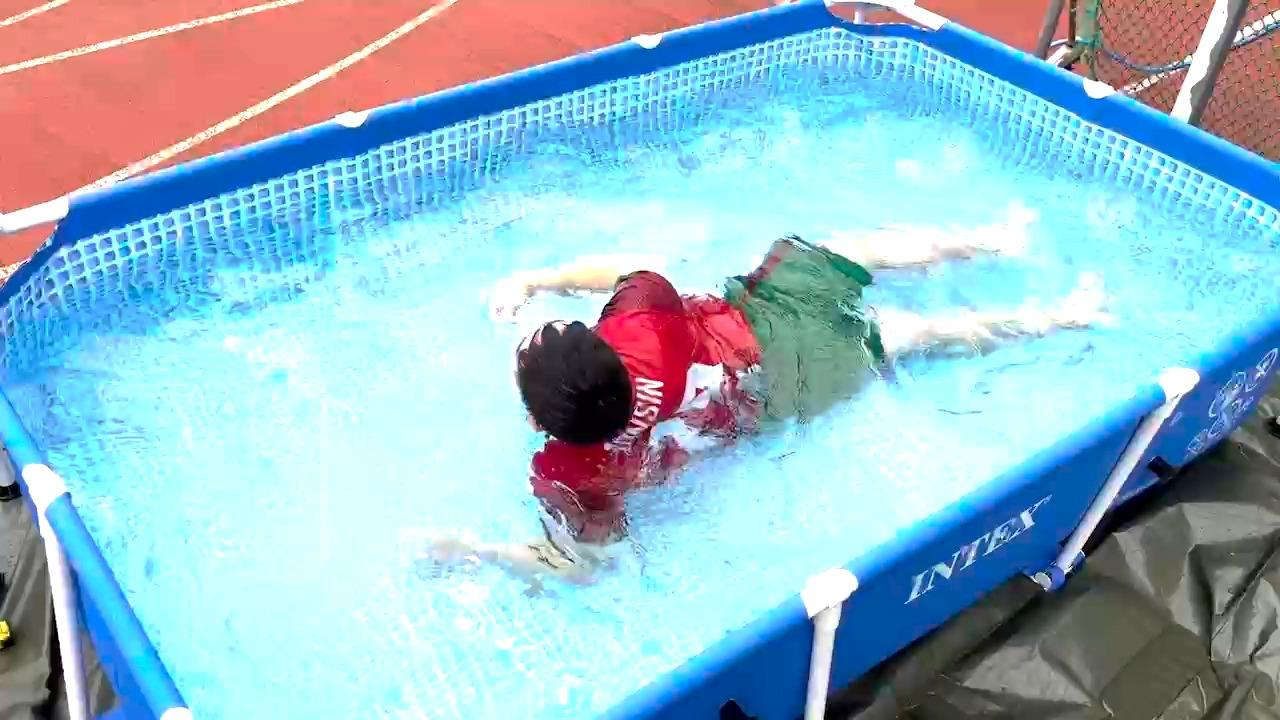Swimming: (341, 162, 1163, 582)
